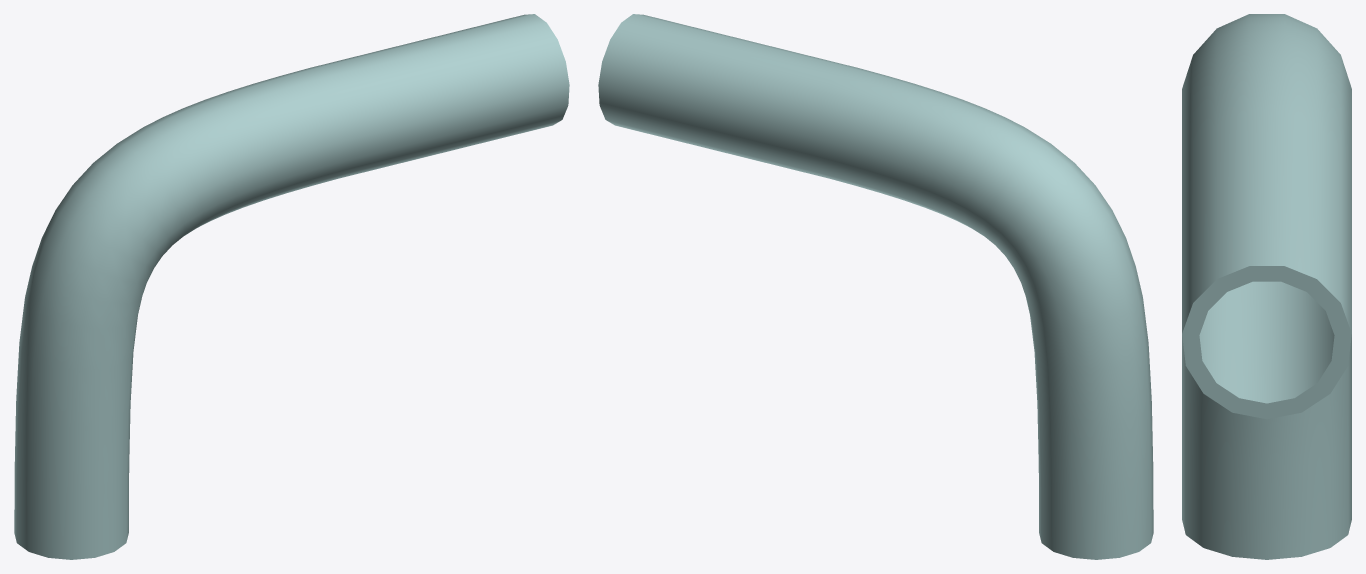
Rendered from glass_line2 (1).fbx.
3 renders of one model, left to right at view 1: azimuth 30°, elevation 25°; view 2: azimuth 150°, elevation 25°; view 3: azimuth 270°, elevation 25°, orthographic. The views are drawn at different scales.
Visible parts, largest first — view 1: Line002; view 2: Line002; view 3: Line002.
Boxes of the visible parts, box(x1,y1,x2,y2) form: Line002: box(14, 14, 569, 559); Line002: box(598, 14, 1153, 559); Line002: box(1182, 14, 1351, 559).
Size of the model in its own units: 104 by 77.21 by 19.89.
